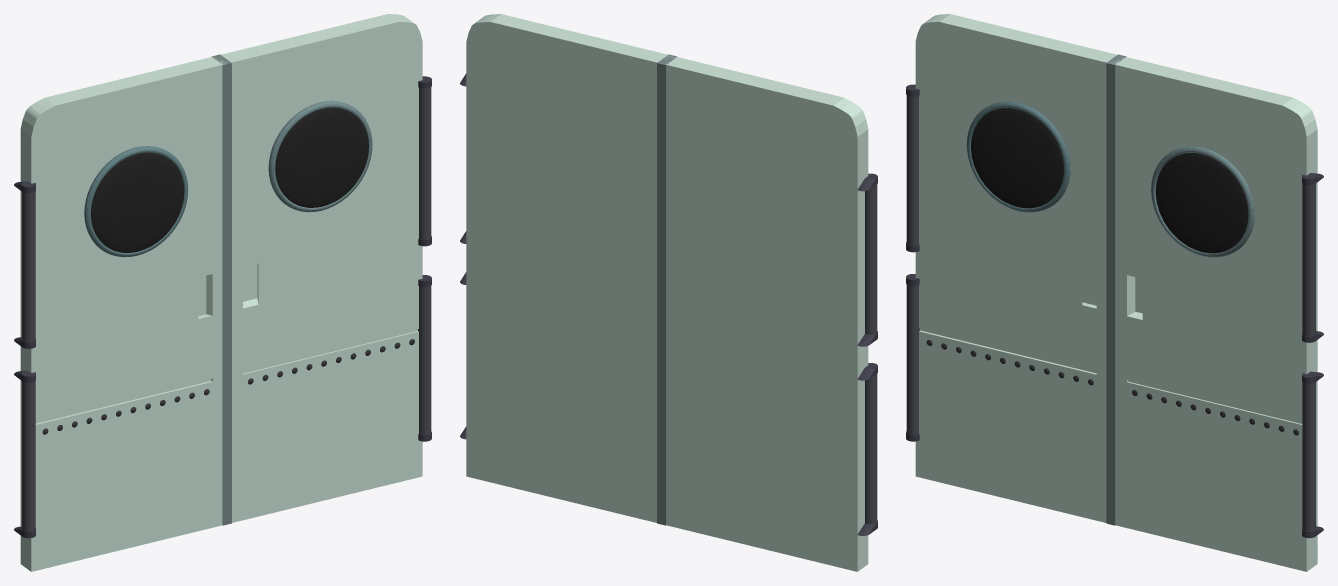
The model's file is Door_NA2.fbx.
The picture shows the model from 3 angles, left to right: view 1: azimuth 30°, elevation 25°; view 2: azimuth 150°, elevation 25°; view 3: azimuth 330°, elevation 25°; orthographic projection.
Visible parts, largest first — view 1: 立方体, 球.001, 球, 立方体.001, 円柱, 円柱.001, 円柱.003, 円柱.002, Torus, Torus.001; view 2: 立方体, 立方体.001, 円柱, 円柱.001; view 3: 立方体, 球, 球.001, 立方体.001, 円柱.003, 円柱.002, 円柱.001, 円柱, Torus.001, Torus.
Boxes of the visible parts, <box> form: 立方体: <box>20,14,422,571</box>; 球.001: <box>275,107,368,207</box>; 球: <box>91,152,184,252</box>; 立方体.001: <box>211,54,231,525</box>; 円柱: <box>22,192,35,342</box>; 円柱.001: <box>22,381,35,531</box>; 円柱.003: <box>419,87,431,239</box>; 円柱.002: <box>418,286,431,435</box>; Torus: <box>84,146,188,257</box>; Torus.001: <box>268,101,372,212</box>; 立方体: <box>466,14,868,571</box>; 立方体.001: <box>657,54,677,525</box>; 円柱: <box>865,184,877,334</box>; 円柱.001: <box>865,374,877,524</box>; 立方体: <box>915,14,1317,571</box>; 球: <box>971,108,1063,208</box>; 球.001: <box>1155,153,1248,253</box>; 立方体.001: <box>1106,54,1126,525</box>; 円柱.003: <box>1302,183,1315,336</box>; 円柱.002: <box>1302,382,1315,531</box>; 円柱.001: <box>906,285,919,435</box>; 円柱: <box>906,95,918,245</box>; Torus.001: <box>1151,146,1254,257</box>; Torus: <box>966,101,1070,212</box>.
Size of the model in its own units: 279 by 300 by 18.61.
